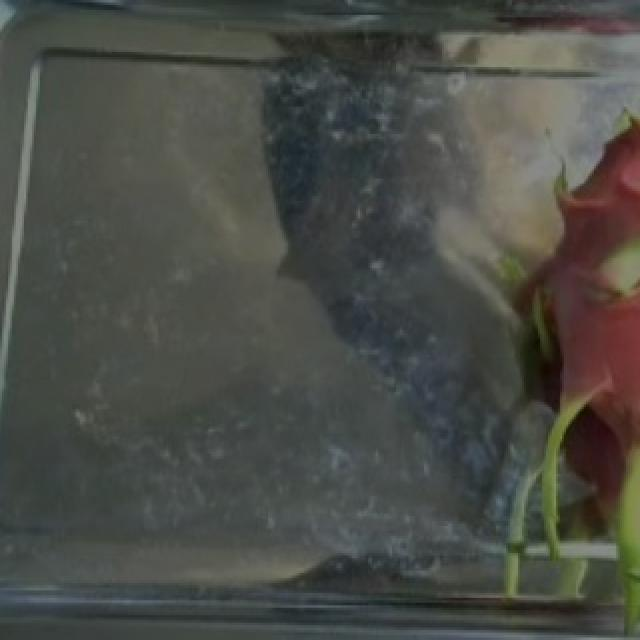fruit: (450, 208, 640, 630)
